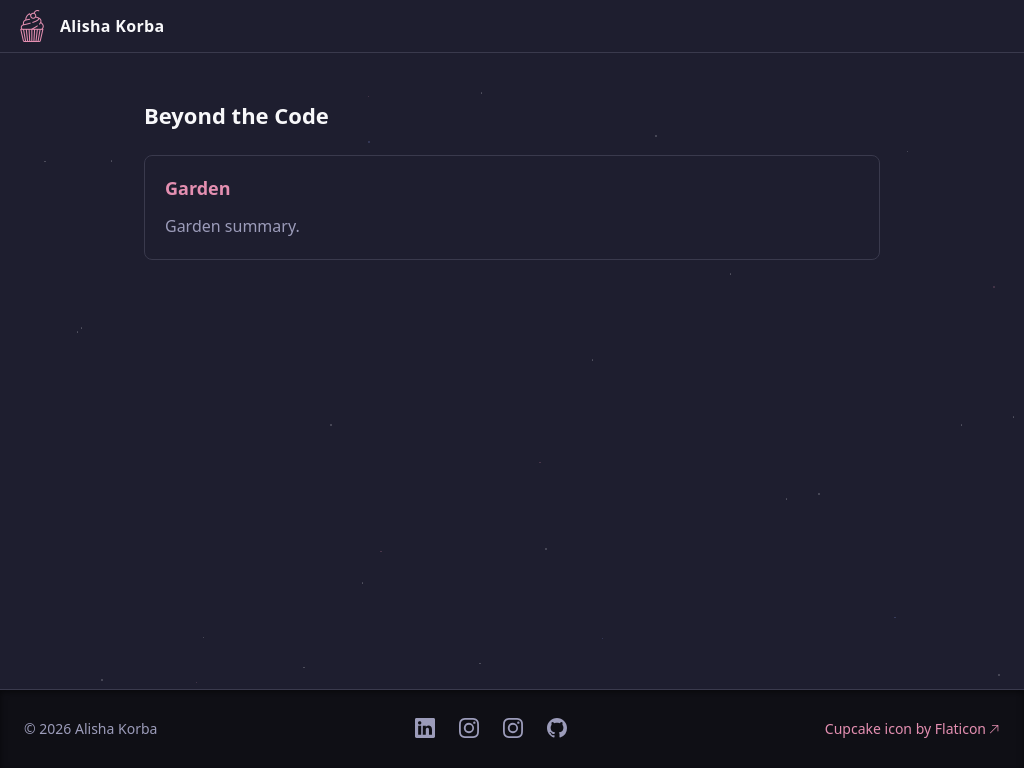
App smoke test › homepage path cards and path indexes › opens a personal story from its /beyond card
The image size is (1024, 768).
Expected: the text "Garden summary." is shown, x1=165 y1=215 x2=300 y2=237
Click the link "Garden". click: (198, 188)
box: x1=165 y1=176 x2=231 y2=200
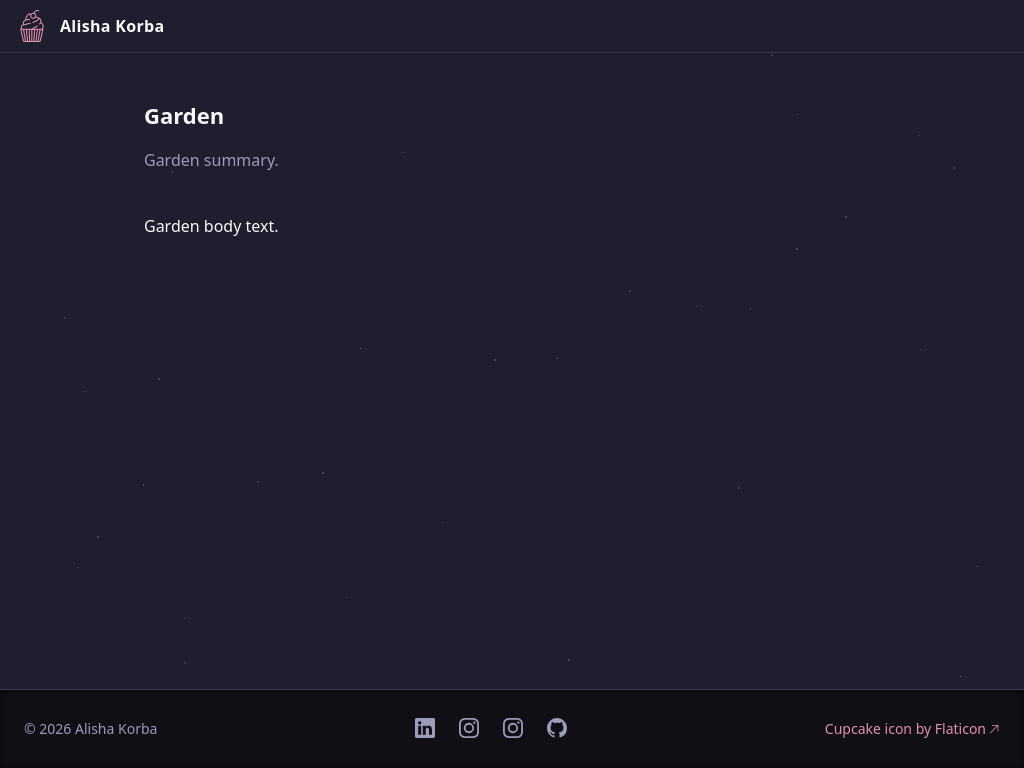
Now the heading "Garden" is shown, box x1=144 y1=100 x2=224 y2=130
Now the text "Garden body text." is shown, box x1=144 y1=215 x2=278 y2=237
